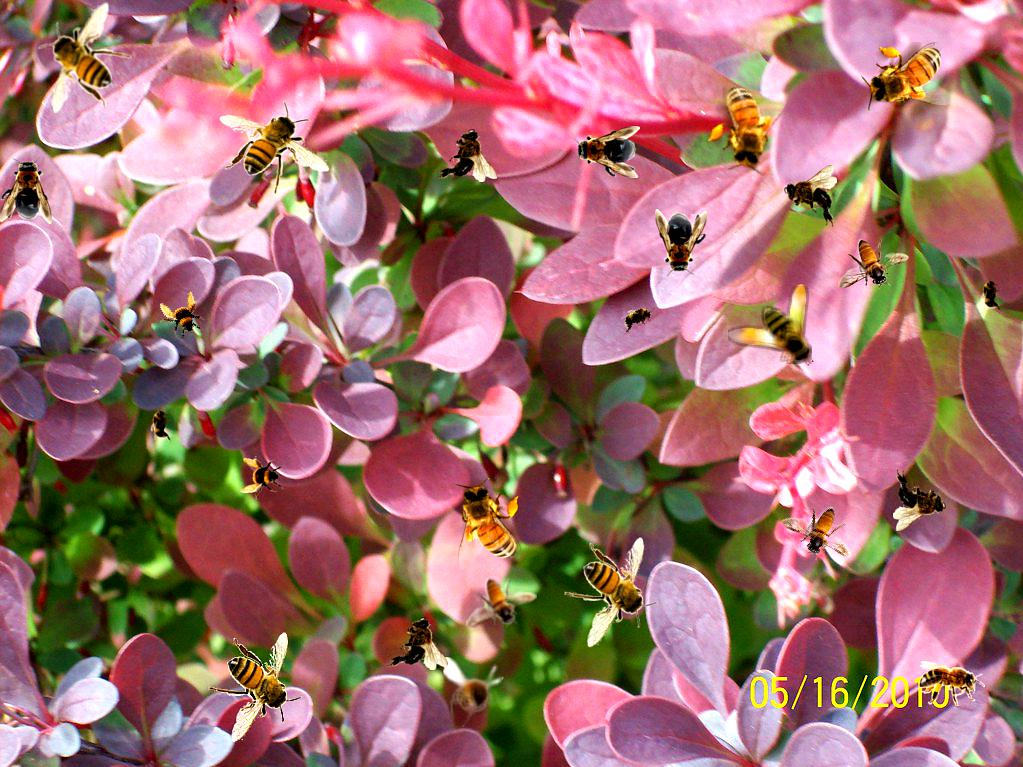Bee: (697, 69, 795, 182), (38, 2, 132, 113), (564, 537, 658, 648), (219, 101, 330, 195), (208, 632, 302, 743), (780, 490, 864, 577), (726, 284, 814, 366), (860, 41, 956, 112), (454, 478, 522, 571), (443, 657, 504, 727), (152, 287, 212, 347), (838, 239, 909, 289), (466, 578, 537, 628), (655, 209, 707, 277), (0, 156, 52, 224), (572, 126, 640, 178), (435, 129, 497, 182), (893, 469, 946, 531), (784, 165, 837, 227), (386, 617, 448, 670), (919, 661, 985, 706), (240, 456, 284, 500), (615, 300, 661, 336), (980, 274, 1002, 314), (150, 404, 172, 444)
